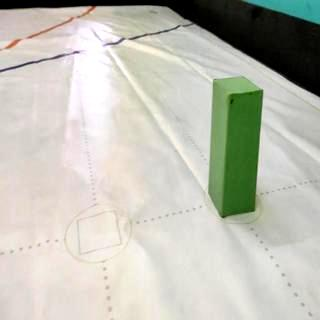greenbox: (210, 74, 264, 221)
